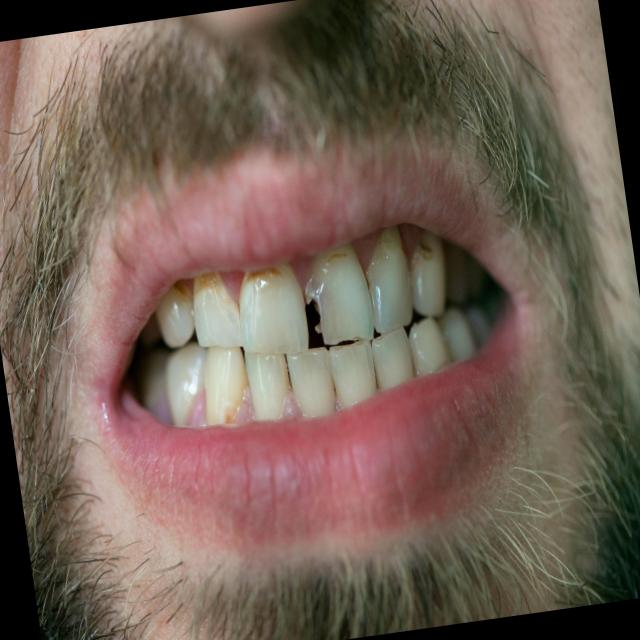Caries: (421, 244, 431, 252)
Cavity: (312, 299, 320, 315)
Tooth: (304, 244, 374, 345), (239, 265, 308, 354), (365, 225, 413, 332), (194, 271, 243, 347), (204, 345, 249, 425), (286, 347, 335, 417), (408, 229, 446, 316), (329, 340, 376, 409), (245, 352, 289, 420), (372, 325, 414, 392), (409, 319, 451, 375)
